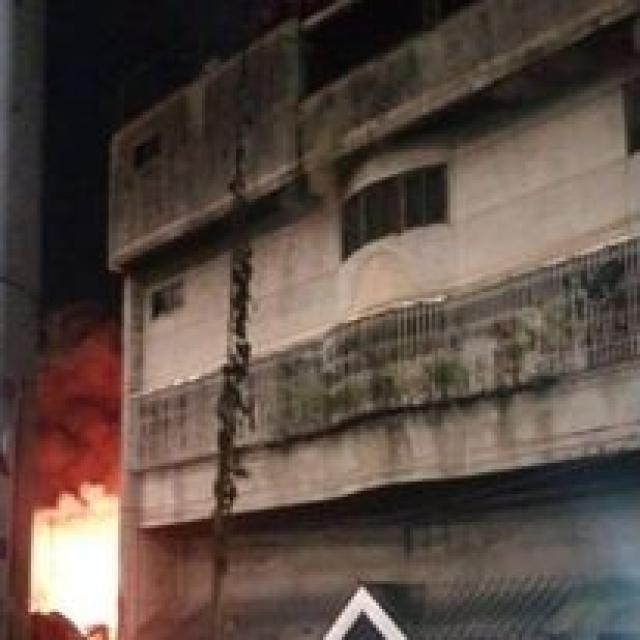Fire: (32, 506, 116, 640)
Smoke: (38, 314, 116, 502)
